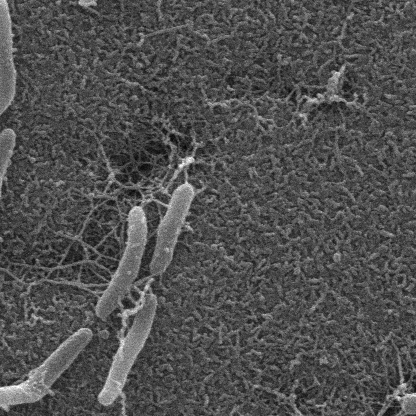cell2cell: (114, 380, 157, 416), (397, 353, 416, 416), (115, 299, 130, 353)
cell2surface: (43, 261, 111, 292), (279, 390, 328, 416), (142, 180, 171, 208)
filament: (0, 328, 92, 410), (0, 126, 18, 293), (0, 0, 18, 123), (78, 0, 161, 8)
regular: (100, 292, 157, 406), (95, 206, 146, 319), (151, 183, 193, 278), (401, 378, 416, 415)
